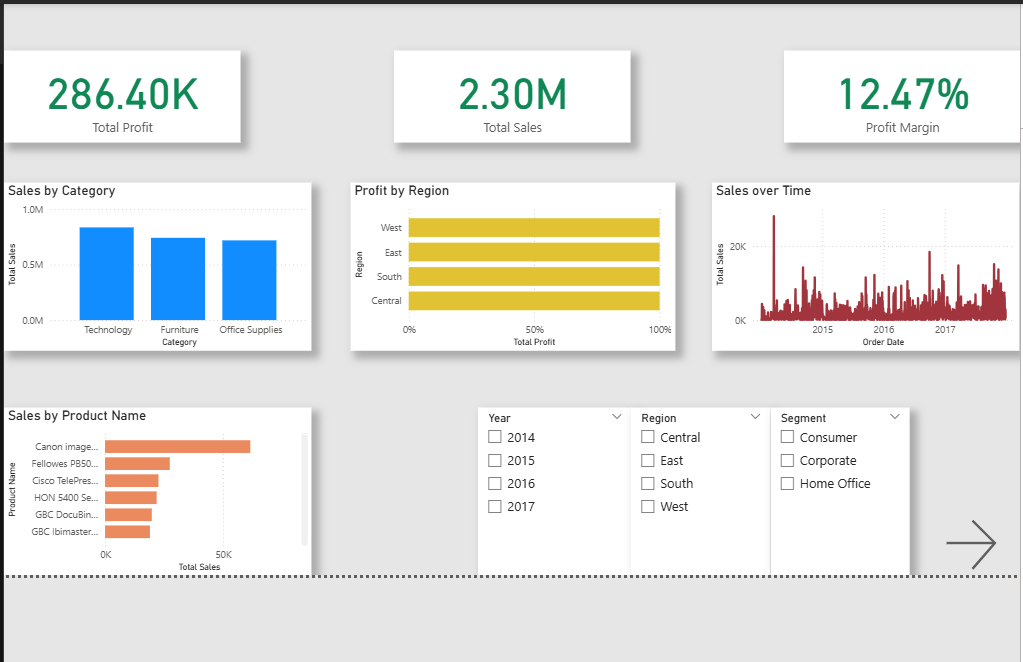

This screenshot's page, from the dashboard's own definition file:
{"tool":"powerbi","page":{"name":"Overview","canvas":[1280,720],"ordinal":0},"visuals":[{"type":"card","fields":{"Values":["pbi.Total Profit"]},"box":[0,58,298.2,116],"z":0},{"type":"card","fields":{"Values":["pbi.Total Sales"]},"box":[492,58,298.2,116],"z":1000},{"type":"card","fields":{"Values":["pbi.Profit Margin"]},"box":[982.3,58,298.2,116],"z":2000},{"type":"lineClusteredColumnComboChart","title":"Sales by Category","fields":{"Category":["pbi.Category"],"Y":["pbi.Total Sales"]},"box":[0,225.3,387.6,212],"z":3000},{"type":"hundredPercentStackedBarChart","title":"Profit by Region","fields":{"Category":["pbi.Region"],"Y":["pbi.Total Profit"]},"box":[435.7,225.3,409.2,212],"z":4000},{"type":"lineChart","title":"Sales over Time","fields":{"Y":["pbi.Total Sales"],"Category":["pbi.Order Date"]},"box":[892.8,225.3,387.6,212],"z":5000},{"type":"barChart","title":"Sales by Product Name","fields":{"Category":["pbi.Product Name"],"Y":["pbi.Total Sales"]},"box":[0,508.5,387.6,212],"z":6000},{"type":"slicer","fields":{"Values":["pbi.Order Date.Variation.Date Hierarchy.Year"]},"box":[596.3,508.5,193.8,212],"z":7000},{"type":"slicer","fields":{"Values":["pbi.Region"]},"box":[790.1,508.5,175.6,212],"z":8000},{"type":"slicer","fields":{"Values":["pbi.Segment"]},"box":[965.7,508.5,175.6,212],"z":9000},{"type":"actionButton","box":[1179.2,642.5,100.2,77.5],"z":9001}]}

Visuals, with their boxes on the page's 1280x720 design canvas (x1, y1, x2, y2). These are canvas units, not pixel positions in the 1023x662 screenshot, which may show the page scaled, cropped or inside an application window:
card - pbi.Total Profit: 0, 58, 298, 174
card - pbi.Total Sales: 492, 58, 790, 174
card - pbi.Profit Margin: 982, 58, 1280, 174
"Sales by Category" lineClusteredColumnComboChart: 0, 225, 388, 437
"Profit by Region" hundredPercentStackedBarChart: 436, 225, 845, 437
"Sales over Time" lineChart: 893, 225, 1280, 437
"Sales by Product Name" barChart: 0, 508, 388, 720
slicer - pbi.Order Date.Variation.Date Hierarchy.Year: 596, 508, 790, 720
slicer - pbi.Region: 790, 508, 966, 720
slicer - pbi.Segment: 966, 508, 1141, 720
actionButton: 1179, 642, 1279, 720
